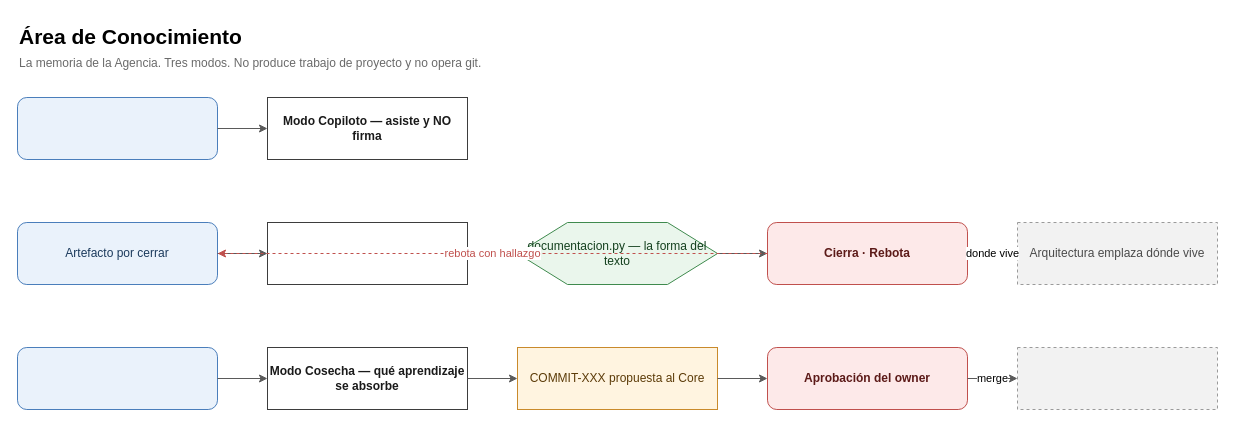
Some shapes in this 1235 by 427 pixel diagram are drawn without their labels. The centre of each missing label's shape, as x and y in pixels:
"01_VaultrumCore" goes at (1117,378).
"Artefacto en curso (cualquier área)" goes at (117,128).
"Entrega cerrada (VE)" goes at (117,378).
"Modo Gate — mide y cierra o rebota" goes at (367,253).
